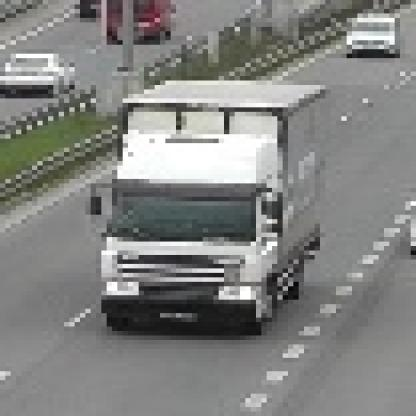truck: (81, 73, 326, 337)
